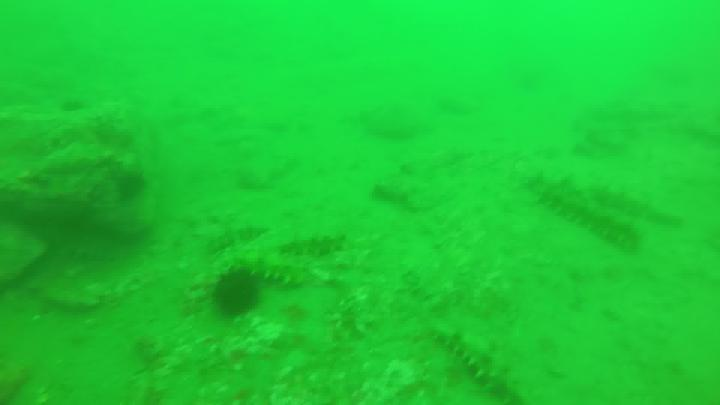echinus: (210, 271, 263, 317)
holothurian: (533, 183, 651, 246), (528, 179, 686, 225), (438, 328, 531, 405), (256, 231, 351, 262), (218, 264, 302, 292)
